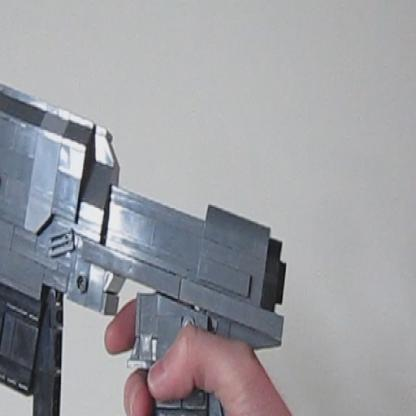gun: (0, 76, 289, 414)
